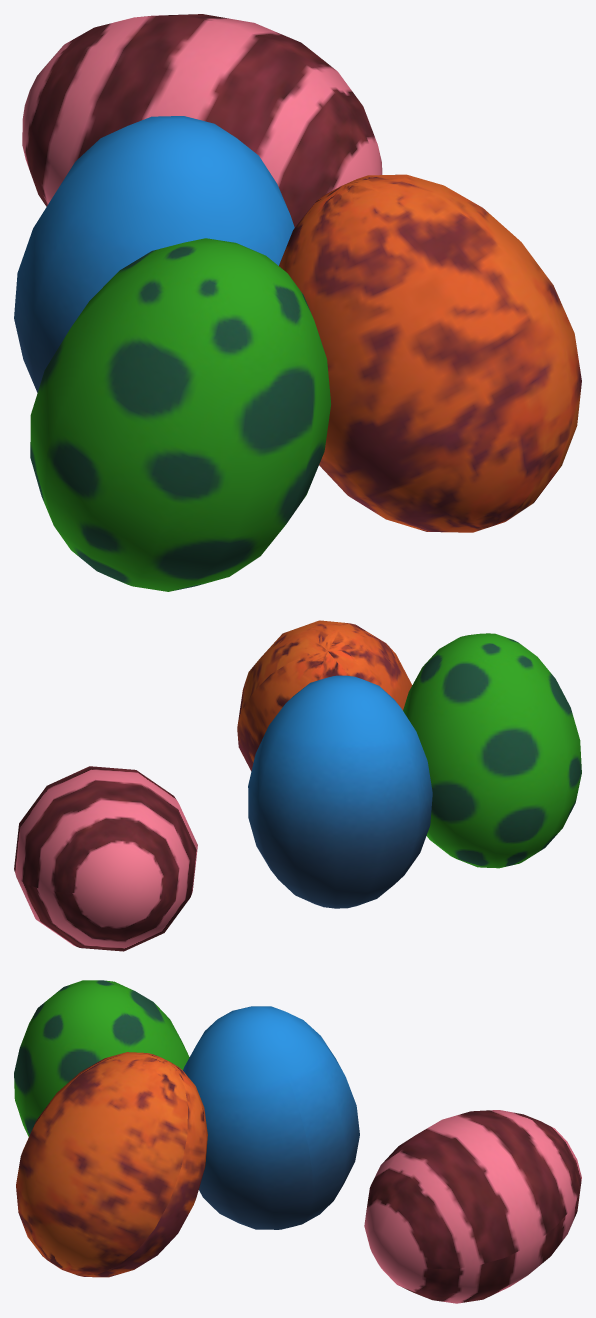
The model's file is egg_1.fbx.
The picture shows the model from 3 angles, top to bottom: view 1: azimuth 30°, elevation 25°; view 2: azimuth 150°, elevation 25°; view 3: azimuth 270°, elevation 25°; orthographic projection. The views are drawn at different scales.
Visible parts, largest first — view 1: egg_2, egg_1, egg_4, egg_3; view 2: egg_3, egg_2, egg_4, egg_1; view 3: egg_1, egg_4, egg_3, egg_2.
Boxes of the visible parts, box(x1,y1,x2,y2) form: egg_2: box(30, 238, 331, 591); egg_1: box(279, 174, 581, 532); egg_4: box(22, 14, 382, 227); egg_3: box(14, 116, 294, 392); egg_3: box(248, 675, 432, 908); egg_2: box(403, 633, 581, 868); egg_4: box(14, 766, 197, 951); egg_1: box(237, 620, 412, 771); egg_1: box(16, 1052, 207, 1277); egg_4: box(364, 1110, 581, 1303); egg_3: box(183, 1006, 359, 1229); egg_2: box(14, 980, 189, 1136).
Bounding box in the file's own units: 4.48 × 2.51 × 6.01.
